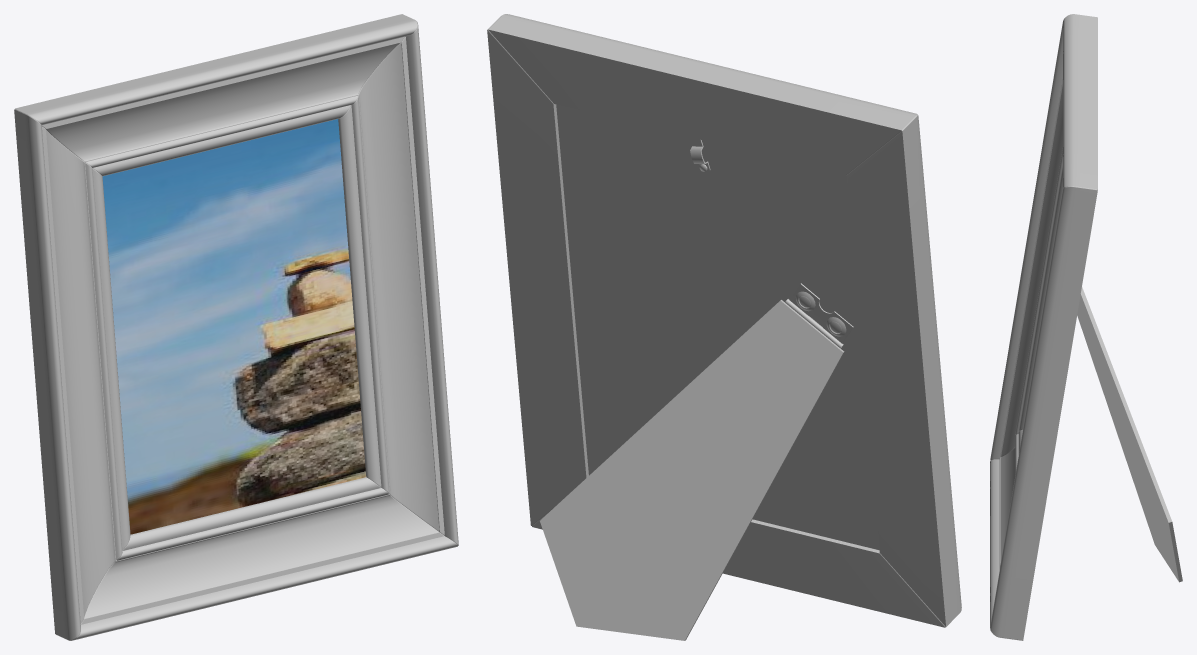
File: mini_2.gltf
3 renders of one model, left to right at view 1: azimuth 30°, elevation 25°; view 2: azimuth 150°, elevation 25°; view 3: azimuth 270°, elevation 25°, orthographic. The views are drawn at different scales.
Parts seen in each view (by area): view 1: standing_picture_frame_02; view 2: standing_picture_frame_02; view 3: standing_picture_frame_02.
Part boxes in pixels (x1=…): standing_picture_frame_02: x1=14, y1=14, x2=458, y2=640; standing_picture_frame_02: x1=487, y1=14, x2=961, y2=640; standing_picture_frame_02: x1=990, y1=14, x2=1182, y2=640.
Size of the model in its own units: 0.2169 by 0.2664 by 0.1023.
